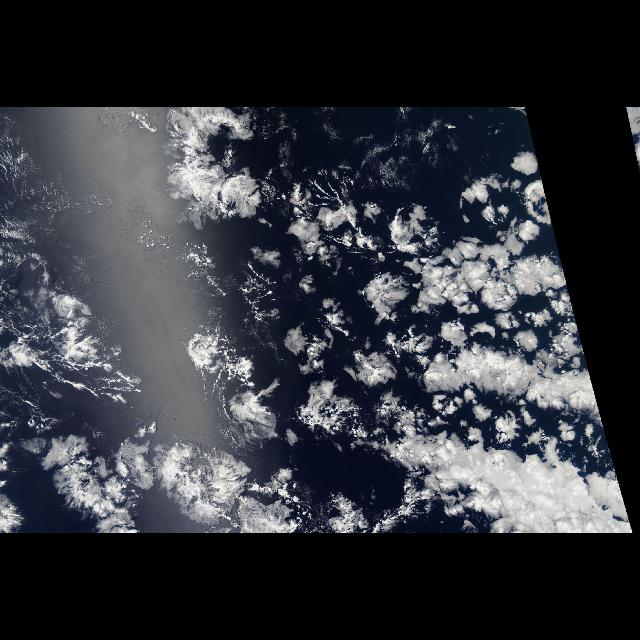Flower: (232, 145, 628, 530)
